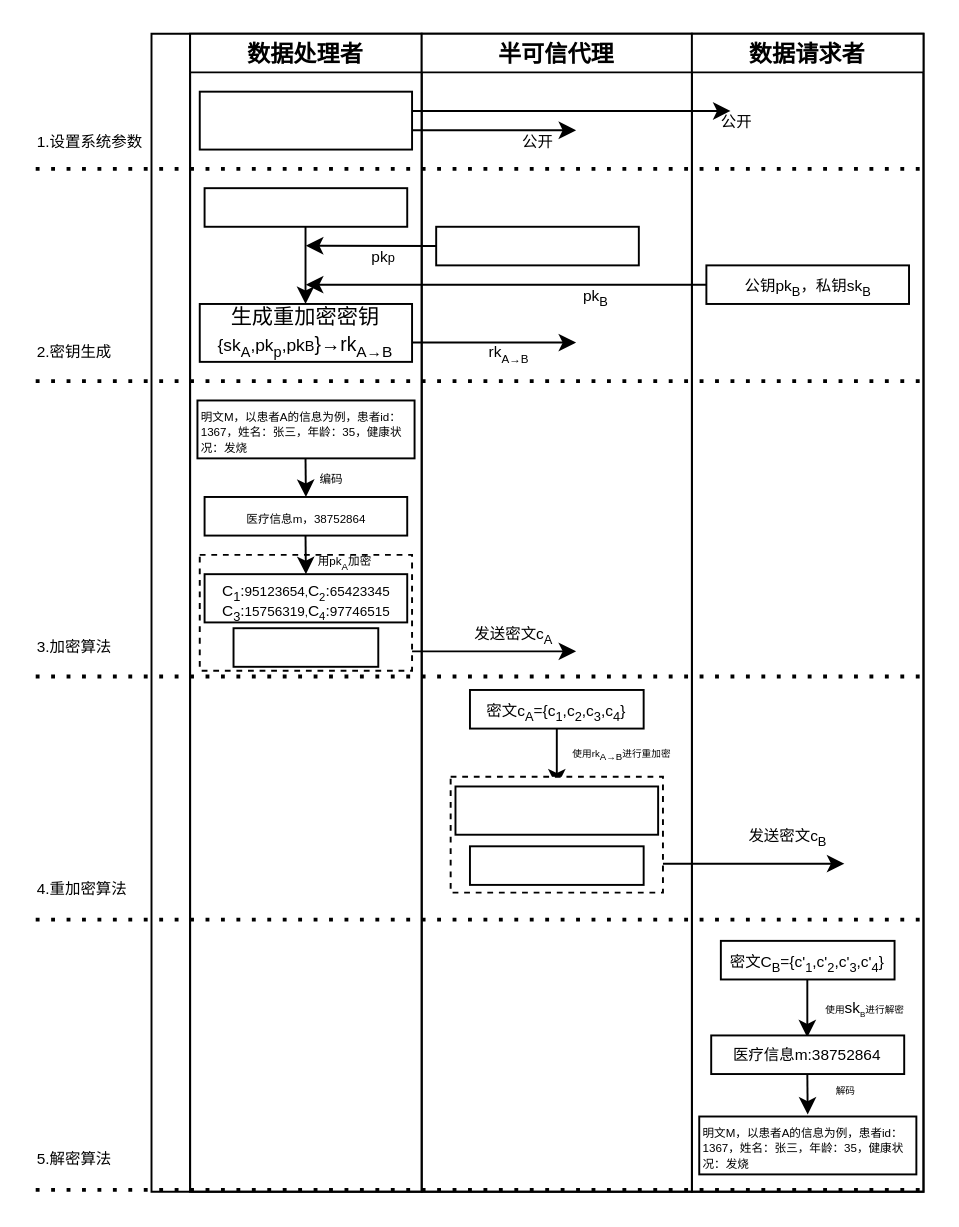
Some shapes in this 959 by 1227 pixel diagram are drawn without their labels. The centre of each missing label's shape, as x and y in pixels:
c A ={c 1 ,c 2 ,c 3 ,c 4 }: (x=305, y=646)
C' 1 : 95123654 , C' 2 : 65423345 C' 3 : 65205824 , C' 4 : 58236751: (x=556, y=810)
代理公钥pkp，代理私钥sk p: (x=536, y=245)
公共参数 par：{x 1 ,x 2 ,k 1 ,k 2 ,e(k 1 ,k 2 )}: (x=305, y=120)
公钥pk A ，私钥sk A: (x=305, y=206)
重加密C B ={c' 1 ,c' 2 ,c' 3 ,c' 4 }: (x=556, y=864)
